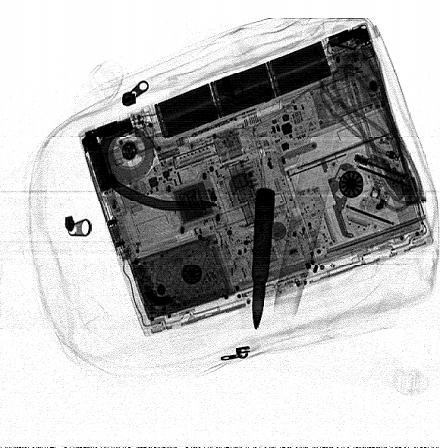Bullet: (251, 186, 277, 332)
